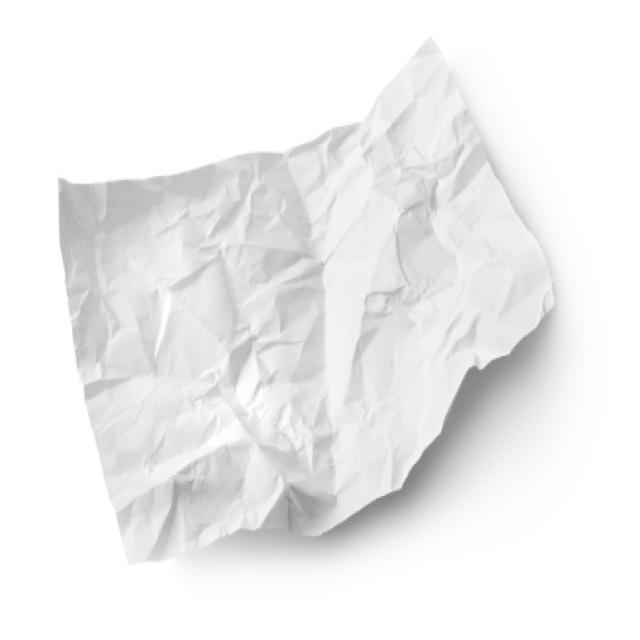paper: (36, 38, 569, 579)
